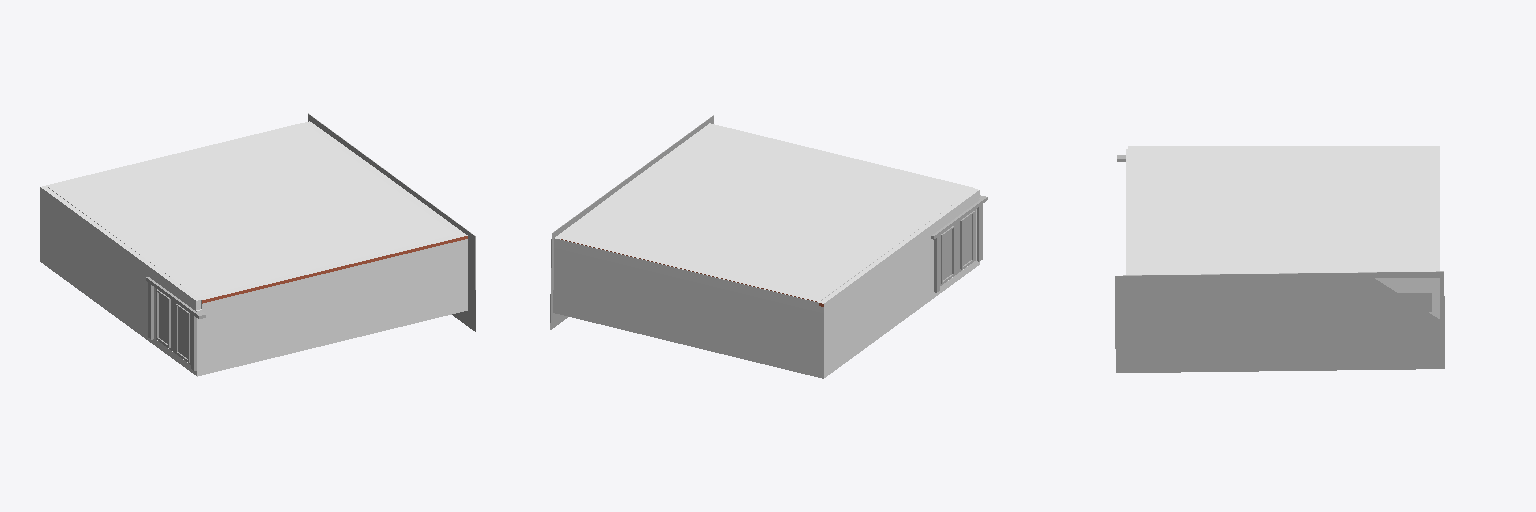
Rendered from museo.obj.
3 views of the same model, side by side, from view 1: azimuth 30°, elevation 25°; view 2: azimuth 150°, elevation 25°; view 3: azimuth 270°, elevation 25° (orthographic).
Parts seen in each view (by area): view 1: Cube.006, Cube, Cube.002, Cube.001; view 2: Cube.006, Cube, Cube.001, Cube.002; view 3: Cube.006, Cube.
Part boxes in pixels (x1,y1,x2,y2): Cube.006: (40,121,467,376); Cube: (308,113,475,331); Cube.002: (156,288,173,351); Cube.001: (174,302,190,364); Cube.006: (553,123,979,378); Cube: (550,115,713,329); Cube.001: (957,209,975,273); Cube.002: (940,223,956,285); Cube.006: (1126,146,1439,318); Cube: (1115,271,1444,372).
Bounding box in the file's own units: 660 × 228 × 684.